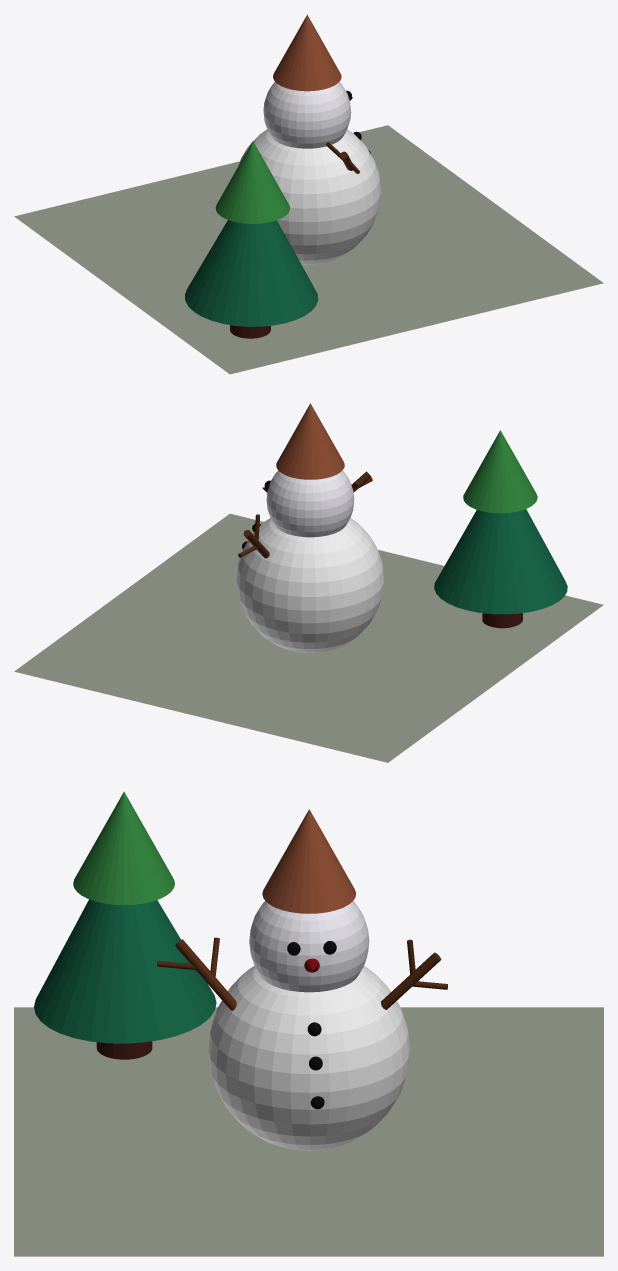
File: winter7.dae
3 renders of one model, top to bottom at view 1: azimuth 30°, elevation 25°; view 2: azimuth 150°, elevation 25°; view 3: azimuth 270°, elevation 25°, orthographic. The views are drawn at different scales.
Visible parts, largest first — view 1: Plane, Sphere, Cone.003, Sphere.001, Cone.001, Cone; view 2: Plane, Sphere, Cone.003, Sphere.001, Cone.001, Cone, Cylinder.006; view 3: Plane, Sphere, Cone.003, Sphere.001, Cone.001, Cone, Cylinder.001, Cylinder.006, Cylinder.
Boxes of the visible parts, x1,y1,x2,y2 form: Plane: [14, 125, 603, 374]; Sphere: [238, 129, 380, 264]; Cone.003: [185, 220, 318, 326]; Sphere.001: [263, 82, 351, 148]; Cone.001: [215, 141, 289, 223]; Cone: [273, 14, 341, 91]; Plane: [14, 513, 603, 762]; Sphere: [236, 518, 384, 652]; Cone.003: [434, 509, 567, 614]; Sphere.001: [266, 470, 354, 537]; Cone.001: [463, 430, 537, 513]; Cone: [276, 403, 344, 479]; Cylinder.006: [482, 613, 522, 628]; Plane: [14, 1007, 603, 1256]; Sphere: [208, 966, 410, 1150]; Cone.003: [34, 899, 216, 1043]; Sphere.001: [249, 901, 369, 992]; Cone.001: [73, 791, 174, 905]; Cone: [262, 809, 355, 913]; Cylinder.001: [175, 939, 236, 1010]; Cylinder.006: [96, 1041, 152, 1059]; Cylinder: [381, 952, 441, 1009].
Bounding box in the file's own units: 11.58 × 11.58 × 7.21.
